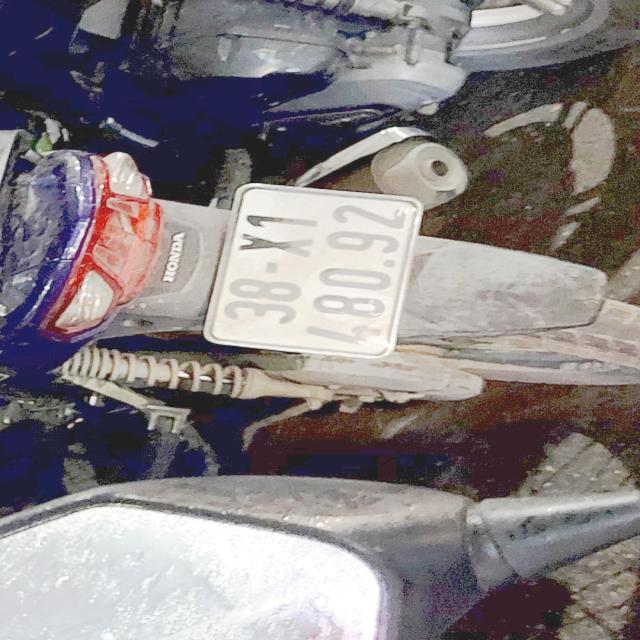license_plate: (192, 179, 439, 370)
